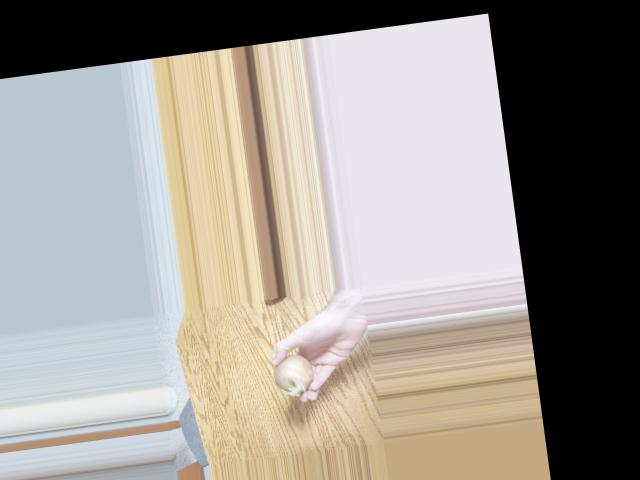onion: (272, 351, 318, 393)
